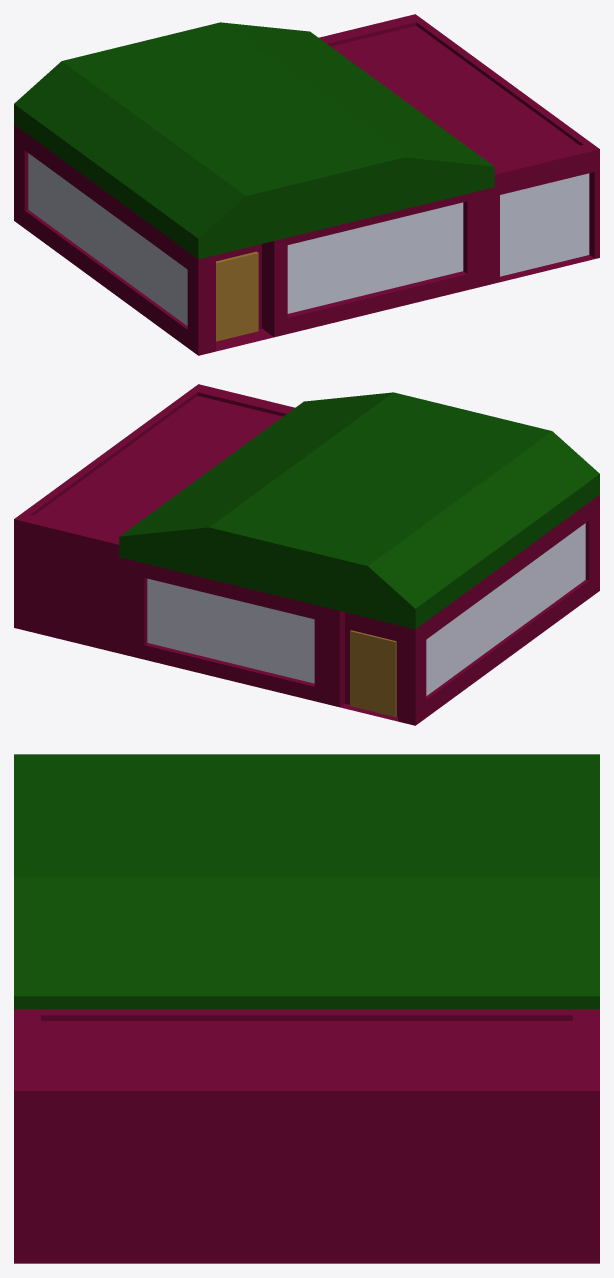
File: house 3 L.fbx
The picture shows the model from 3 angles, top to bottom: view 1: azimuth 30°, elevation 25°; view 2: azimuth 150°, elevation 25°; view 3: azimuth 270°, elevation 25°; orthographic projection. The views are drawn at different scales.
Visible parts, largest first — view 1: Cube; view 2: Cube; view 3: Cube.
Part boxes in pixels (<box>): Cube: <box>14,14,599,355</box>; Cube: <box>14,384,599,725</box>; Cube: <box>14,754,599,1263</box>.
Bounding box in the file's own units: 718 × 254 × 572.
